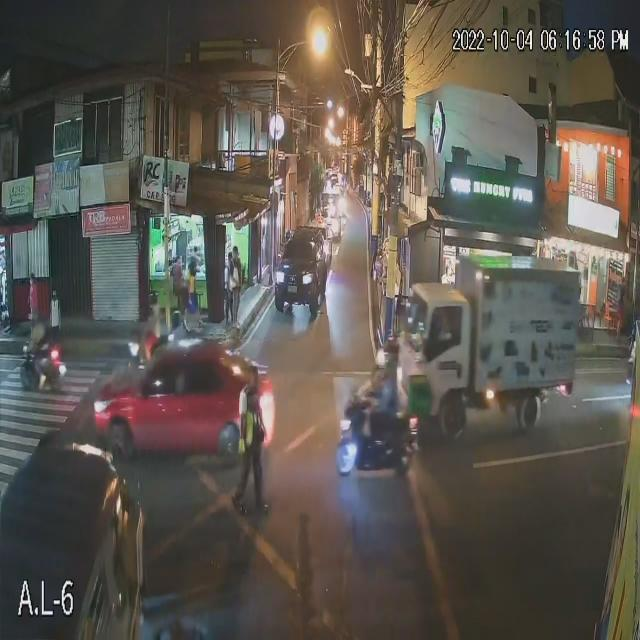motorcycle: (337, 408, 415, 488), (23, 348, 69, 389)
rider: (376, 372, 397, 437), (38, 328, 56, 368)
